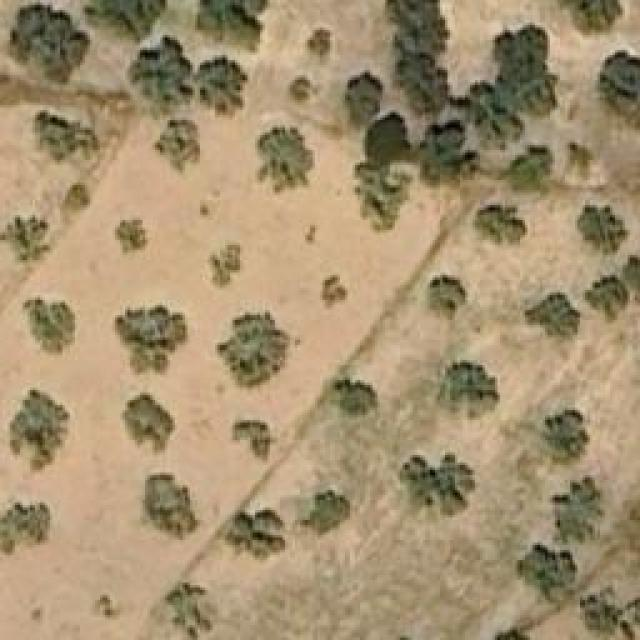Tree: (10, 5, 90, 85), (493, 28, 556, 118), (113, 305, 193, 375), (517, 543, 595, 613), (218, 313, 288, 388), (10, 390, 68, 473), (400, 453, 475, 516), (460, 77, 527, 146), (130, 35, 193, 103), (418, 120, 480, 189), (255, 125, 315, 193), (138, 475, 198, 540), (195, 0, 268, 50), (448, 360, 501, 428), (553, 475, 603, 545), (82, 0, 165, 42), (393, 57, 453, 115), (585, 255, 640, 318), (388, 0, 451, 54), (600, 50, 640, 133), (225, 508, 285, 563), (580, 585, 640, 640), (35, 110, 100, 160), (23, 298, 76, 358), (163, 582, 216, 640), (125, 395, 178, 450), (358, 163, 403, 223), (578, 205, 631, 255), (540, 410, 590, 463), (0, 503, 50, 556), (198, 55, 248, 108), (152, 120, 200, 173), (473, 205, 528, 250), (525, 293, 580, 338), (298, 490, 351, 535), (345, 70, 383, 130), (0, 218, 50, 261), (555, 0, 622, 32), (230, 420, 278, 463), (500, 148, 550, 183), (208, 242, 243, 290), (333, 380, 378, 415), (430, 275, 465, 318), (115, 217, 148, 255), (473, 622, 536, 640), (320, 275, 348, 310), (308, 30, 331, 65), (93, 595, 123, 620), (200, 202, 215, 220)
